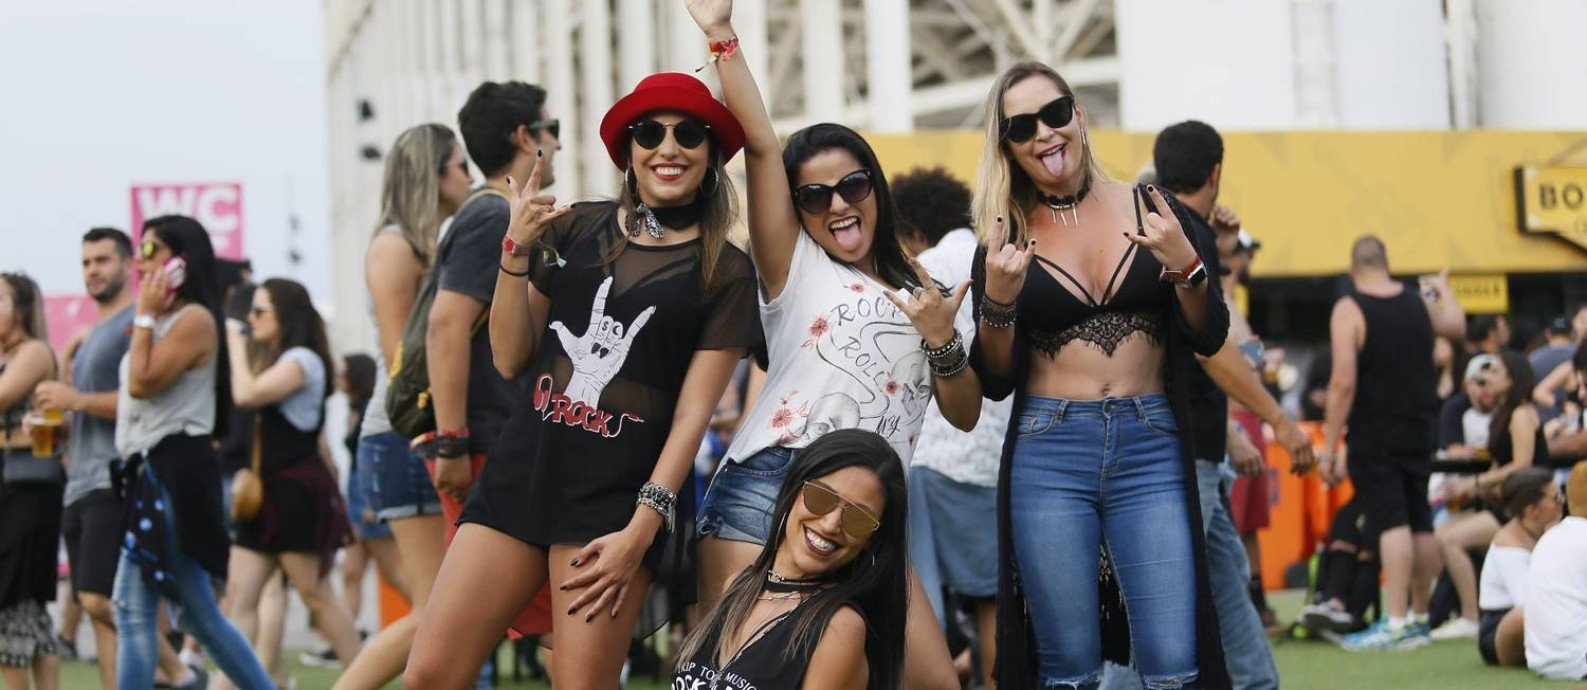without_mask: (781, 455, 890, 571), (992, 77, 1082, 204), (788, 139, 882, 260), (624, 109, 716, 199), (78, 238, 125, 305)
